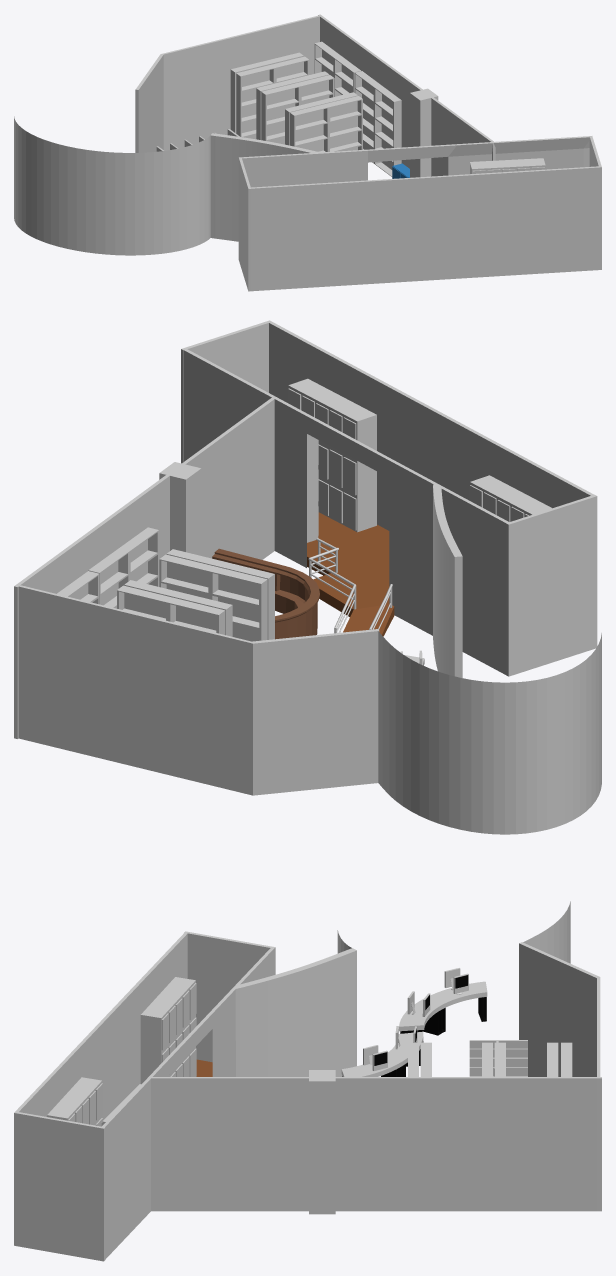
Rendered from Library.gltf.
The picture shows the model from 3 angles, top to bottom: view 1: azimuth 30°, elevation 25°; view 2: azimuth 150°, elevation 25°; view 3: azimuth 270°, elevation 25°; orthographic projection. The views are drawn at different scales.
Parts seen in each view (by area): view 1: Cube.005, Cylinder, Cube.001, Cube.004, Cube.008, Cube.002, Cube.036, Cube.680, Cube.220, Cube.128, Cube.009, Cube.006 (+5 smaller); view 2: Cube.001, Cylinder, Cube.004, Cube.008, Cube.005, Cube.006, Cube.012, Cube.010, Cube.312, Cube.002, Cylinder.023, Cube.003 (+8 smaller); view 3: Cube.008, Cube.002, Cube.003, Cube.004, Cube.001, Cube.005, Cube.006, Cube.011, Cube.009, Cube.752, Cube.012, Cylinder (+2 smaller).
Part boxes in pixels (box(x1,y1,x2,y2)): Cube.005: box(249, 166, 601, 291); Cylinder: box(14, 116, 210, 255); Cube.001: box(135, 15, 321, 152); Cube.004: box(240, 136, 592, 187); Cube.008: box(318, 14, 495, 176); Cube.002: box(210, 133, 320, 241); Cube.036: box(290, 96, 362, 152); Cube.680: box(354, 71, 401, 176); Cube.220: box(236, 56, 309, 139); Cube.128: box(261, 75, 334, 144); Cube.009: box(410, 88, 438, 177); Cube.006: box(238, 157, 251, 291); Cube.001: box(16, 584, 379, 795); Cylinder: box(378, 631, 601, 834); Cube.004: box(182, 348, 510, 674); Cube.008: box(14, 396, 276, 738); Cube.005: box(267, 320, 593, 530); Cube.006: box(506, 494, 597, 676); Cube.012: box(288, 378, 376, 532); Cube.010: box(307, 512, 394, 636); Cube.312: box(159, 554, 267, 641); Cube.002: box(433, 483, 462, 677); Cylinder.023: box(212, 548, 319, 639); Cube.003: box(181, 320, 269, 463); Cube.008: box(149, 1077, 601, 1211); Cube.002: box(234, 948, 356, 1076); Cube.003: box(14, 1112, 105, 1261); Cube.004: box(100, 947, 273, 1259); Cube.001: box(519, 942, 600, 1211); Cube.005: box(14, 932, 188, 1120); Cube.006: box(184, 931, 275, 1062); Cube.011: box(140, 977, 196, 1084); Cube.009: box(309, 1070, 335, 1214); Cube.752: box(399, 981, 487, 1042); Cube.012: box(47, 1077, 102, 1126); Cylinder: box(337, 901, 570, 963).
Bounding box in the file's own units: 337 × 79.61 × 315.
